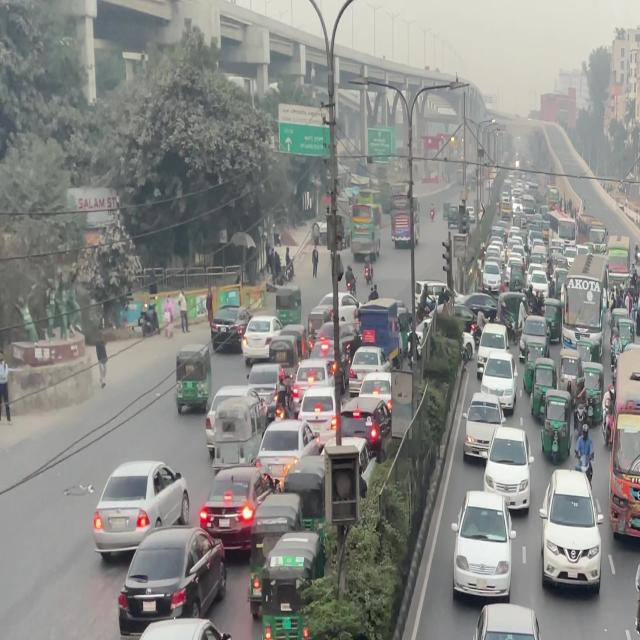bus: (603, 358, 640, 544), (564, 279, 613, 343), (348, 197, 382, 262), (389, 186, 423, 248)
car: (116, 526, 224, 632), (90, 453, 188, 557), (538, 469, 605, 594), (453, 493, 517, 602), (200, 467, 272, 555), (481, 430, 531, 508), (462, 385, 509, 466), (466, 601, 553, 640), (108, 618, 236, 640), (516, 306, 554, 374), (480, 349, 520, 413), (473, 320, 513, 380)
motorbike: (628, 575, 640, 640)
rickshaw: (250, 528, 327, 640), (246, 484, 305, 612), (538, 383, 576, 468), (174, 344, 211, 418), (529, 356, 559, 430), (581, 356, 607, 430)
